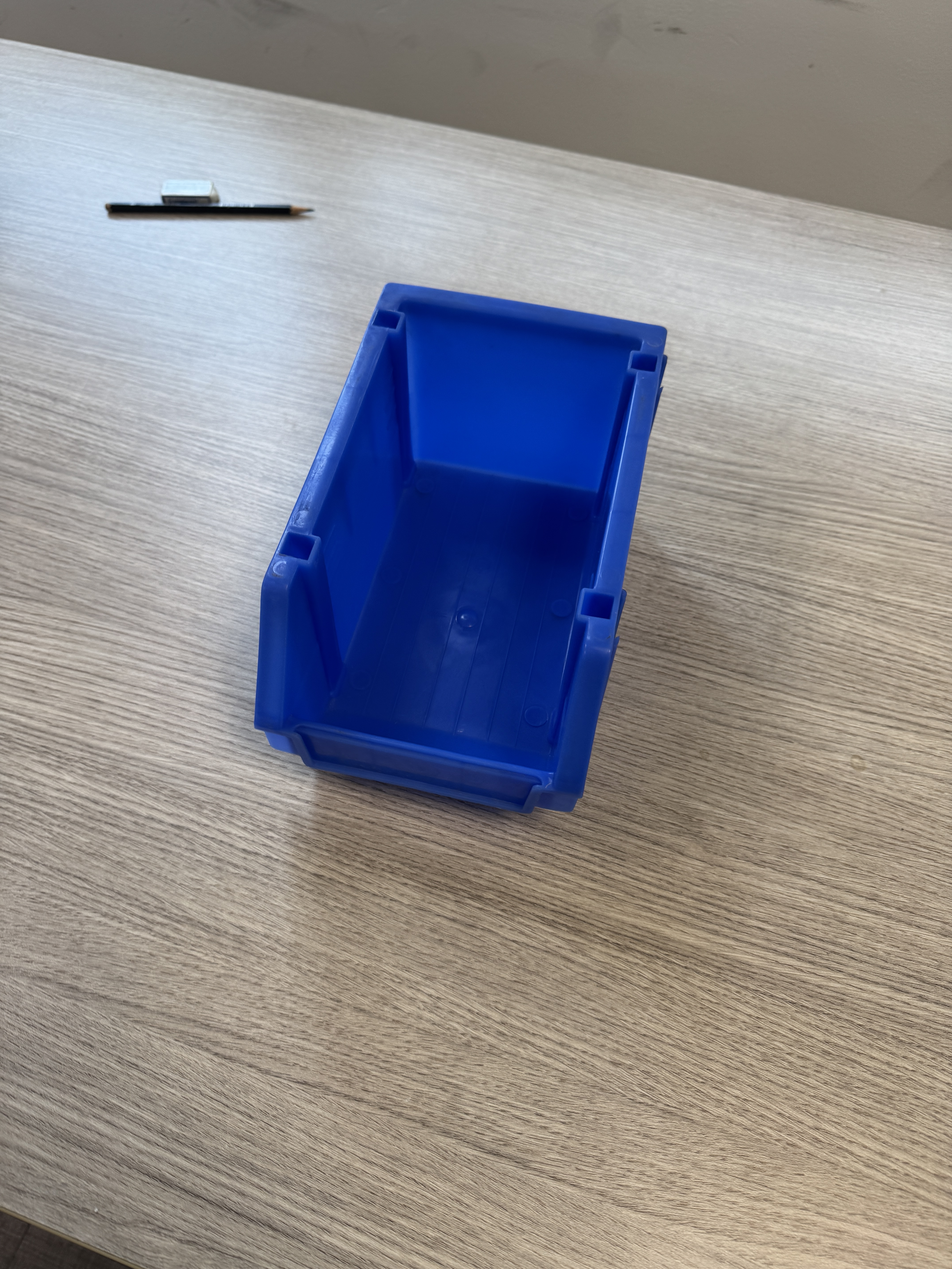Bin Boundary: (267, 277, 647, 775)
